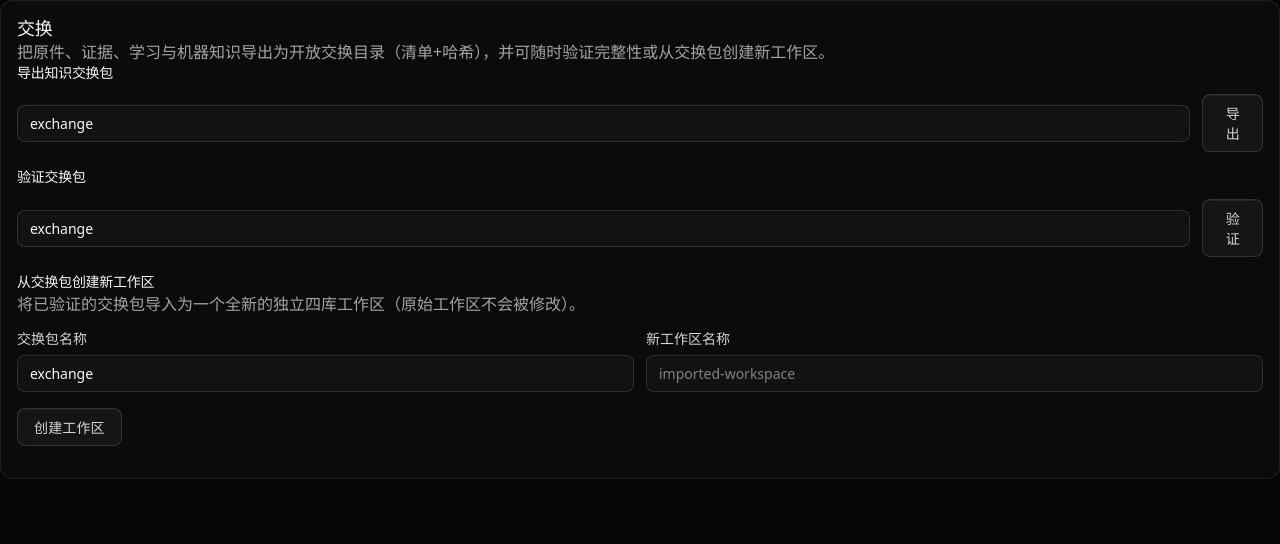
ExchangeSpace › verifies an exchange package and reports pass/fail truthfully
Click the button "验证".
click(1233, 228)  # box left=1202, top=199, right=1263, bottom=257
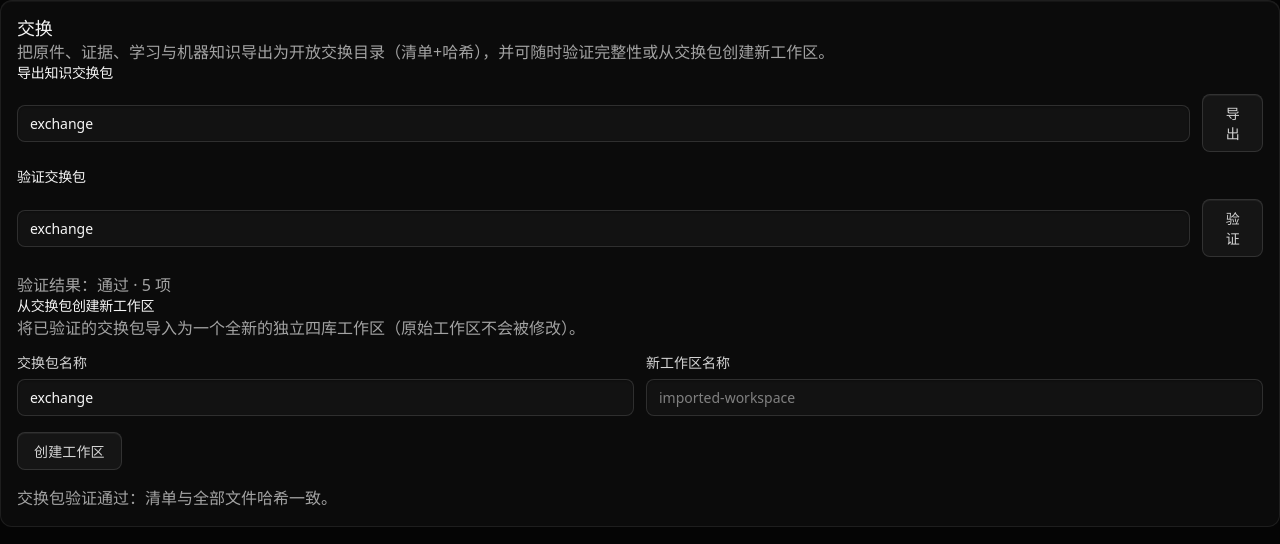
Expected: the text "交换包验证通过：清单与全部文件哈希一致。" is shown, left=17, top=487, right=337, bottom=509
Expected: the text "验证结果：通过 · 5 项" is shown, left=17, top=274, right=171, bottom=296
